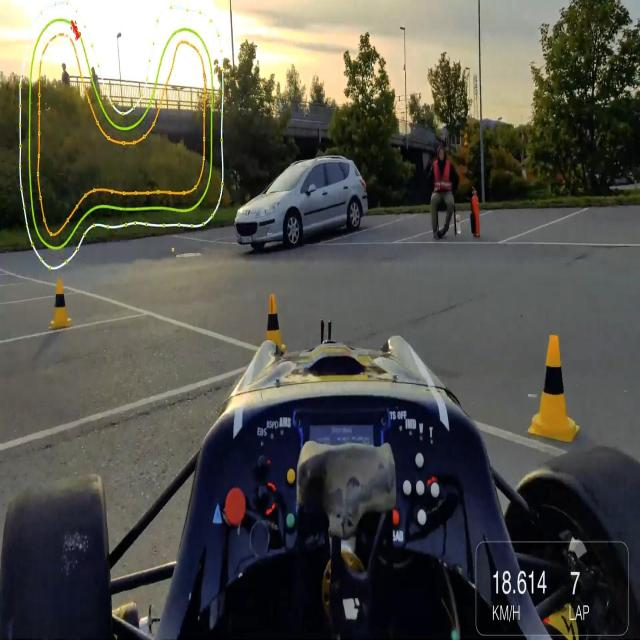yellow_cone: (526, 327, 584, 448), (259, 288, 288, 366), (46, 275, 71, 332)
